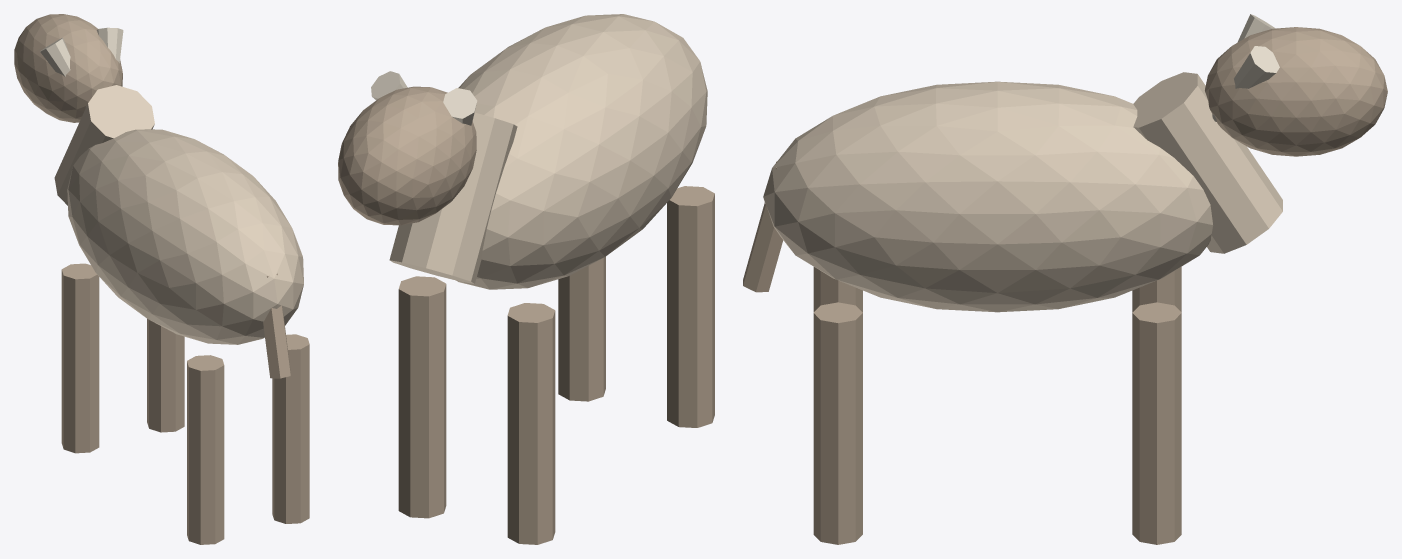
Rendered from ANI_Goat.glb.
The picture shows the model from 3 angles, left to right: view 1: azimuth 30°, elevation 25°; view 2: azimuth 150°, elevation 25°; view 3: azimuth 270°, elevation 25°; orthographic projection. The views are drawn at different scales.
Parts seen in each view (by area): view 1: Part_0, Part_6, Part_1, Part_2, Part_4, Part_5, Part_3, Part_7, Part_8, Part_9; view 2: Part_0, Part_6, Part_3, Part_1, Part_2, Part_5, Part_4, Part_8, Part_9; view 3: Part_0, Part_6, Part_5, Part_3, Part_4, Part_7, Part_2, Part_1, Part_9.
Part boxes in pixels (<box>): Part_0: <box>67,129,303,344</box>; Part_6: <box>14,14,122,122</box>; Part_1: <box>61,263,99,453</box>; Part_2: <box>187,355,224,544</box>; Part_4: <box>272,334,309,523</box>; Part_5: <box>54,85,154,205</box>; Part_3: <box>147,319,184,432</box>; Part_7: <box>263,273,290,378</box>; Part_8: <box>40,37,85,107</box>; Part_9: <box>97,27,123,63</box>; Part_0: <box>456,14,707,289</box>; Part_6: <box>338,86,476,225</box>; Part_3: <box>398,276,446,518</box>; Part_1: <box>507,303,555,544</box>; Part_2: <box>667,186,714,427</box>; Part_5: <box>389,112,517,283</box>; Part_4: <box>558,256,605,401</box>; Part_8: <box>443,88,477,125</box>; Part_9: <box>371,71,407,100</box>; Part_0: <box>763,81,1212,312</box>; Part_6: <box>1205,27,1387,156</box>; Part_5: <box>1133,72,1282,253</box>; Part_3: <box>1132,302,1181,544</box>; Part_4: <box>813,302,862,544</box>; Part_7: <box>743,161,783,292</box>; Part_2: <box>813,267,862,312</box>; Part_1: <box>1132,267,1181,312</box>; Part_9: <box>1212,46,1279,121</box>.
Size of the model in its own units: 0.44 by 1.03 by 1.27.
